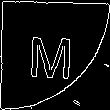M_N: (31, 29, 79, 81)
